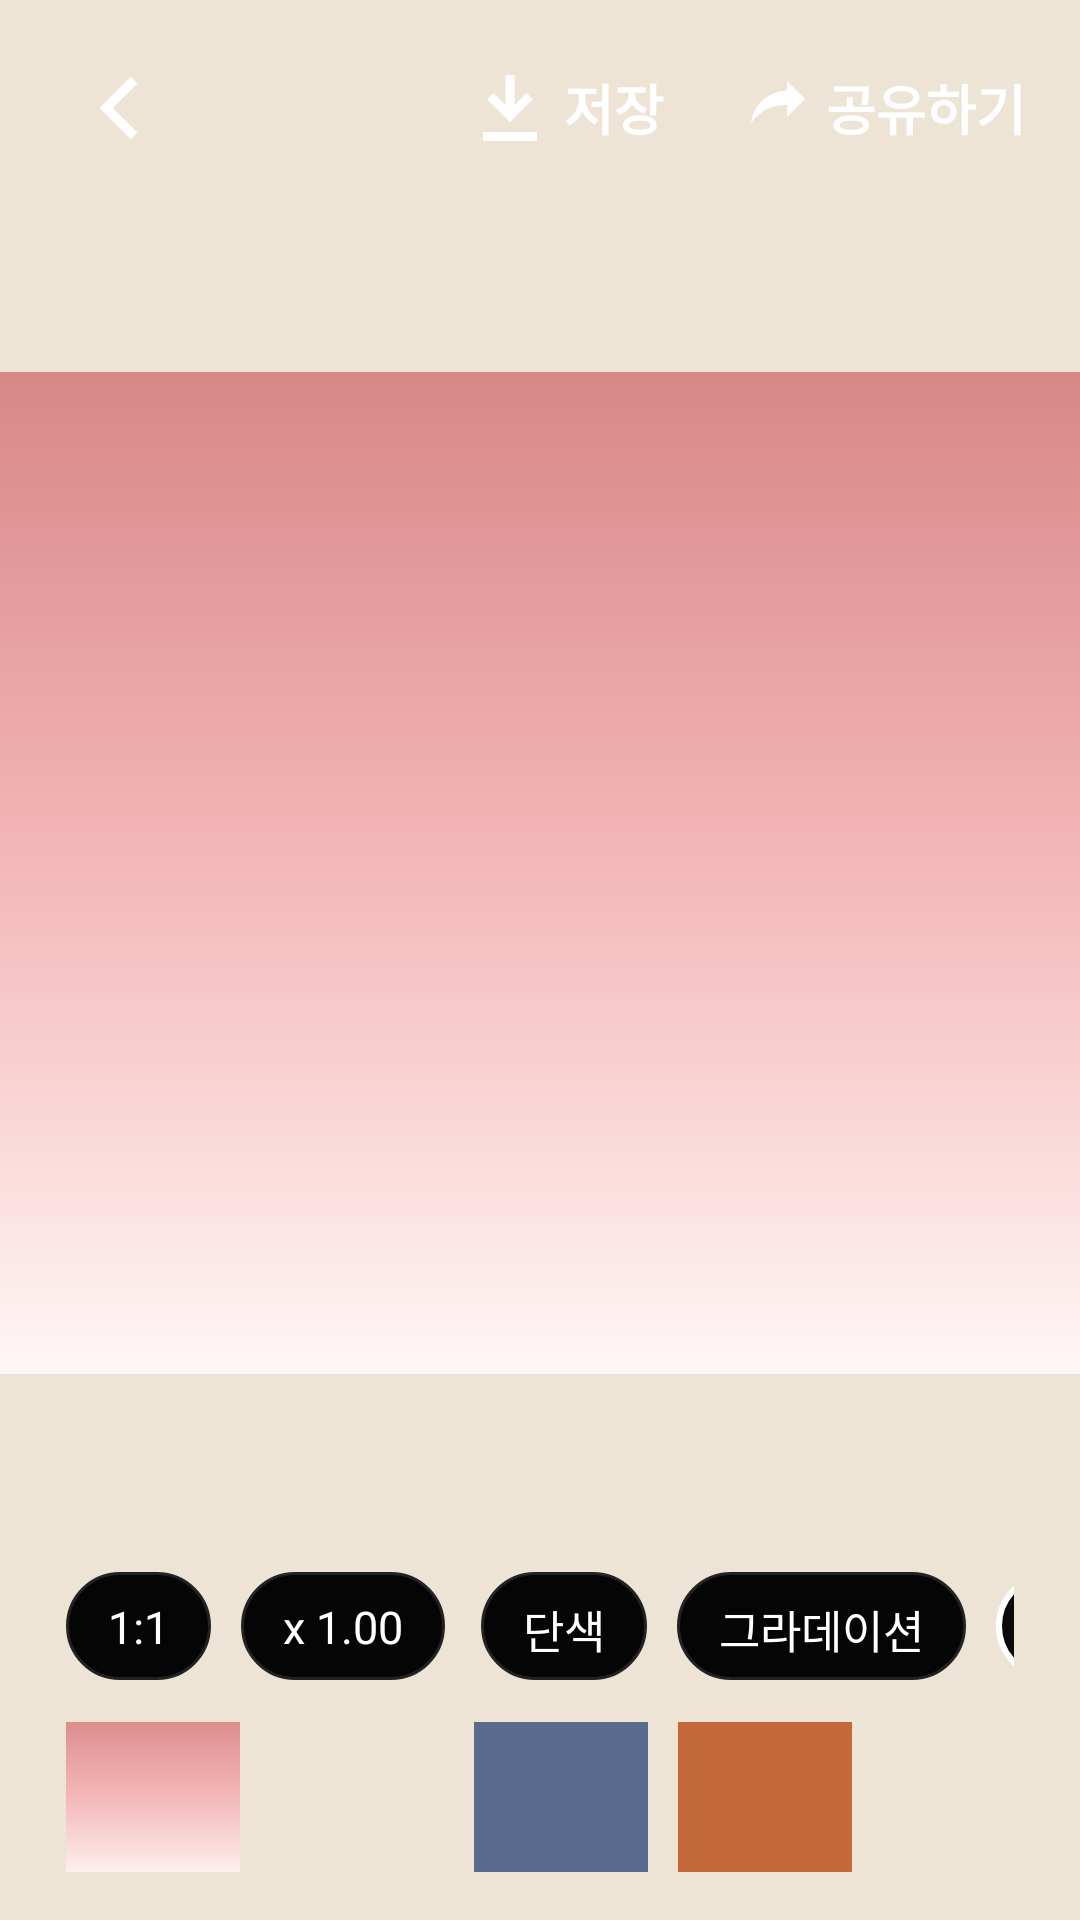

Where icons sit on this 1080px×1920px app screen, as (x1, y1, x2, y2):
뒤로가기: (100, 77, 137, 139)
